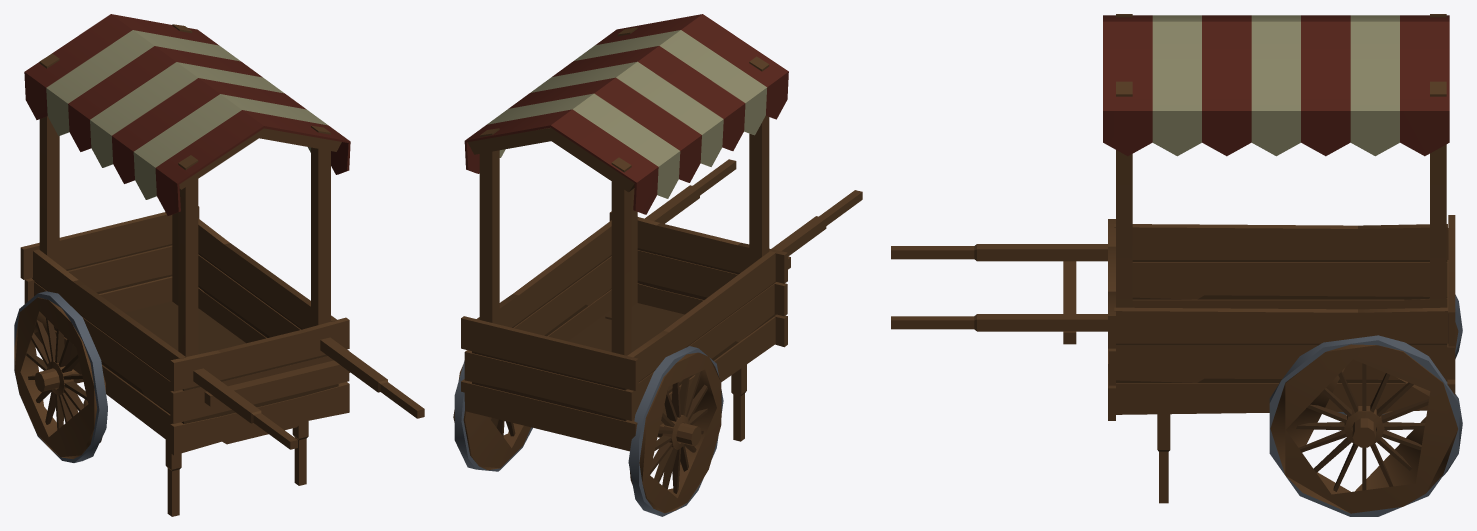
The model's file is cart.glb.
3 renders of one model, left to right at view 1: azimuth 30°, elevation 25°; view 2: azimuth 150°, elevation 25°; view 3: azimuth 270°, elevation 25°, orthographic. The views are drawn at different scales.
Visible parts, largest first — view 1: cart; view 2: cart; view 3: cart.
Part boxes in pixels (x1,y1,x2,y2): cart: (14,14,424,516); cart: (453,14,862,516); cart: (891,14,1462,516).
Size of the model in its own units: 1.94 by 3.34 by 3.9.
